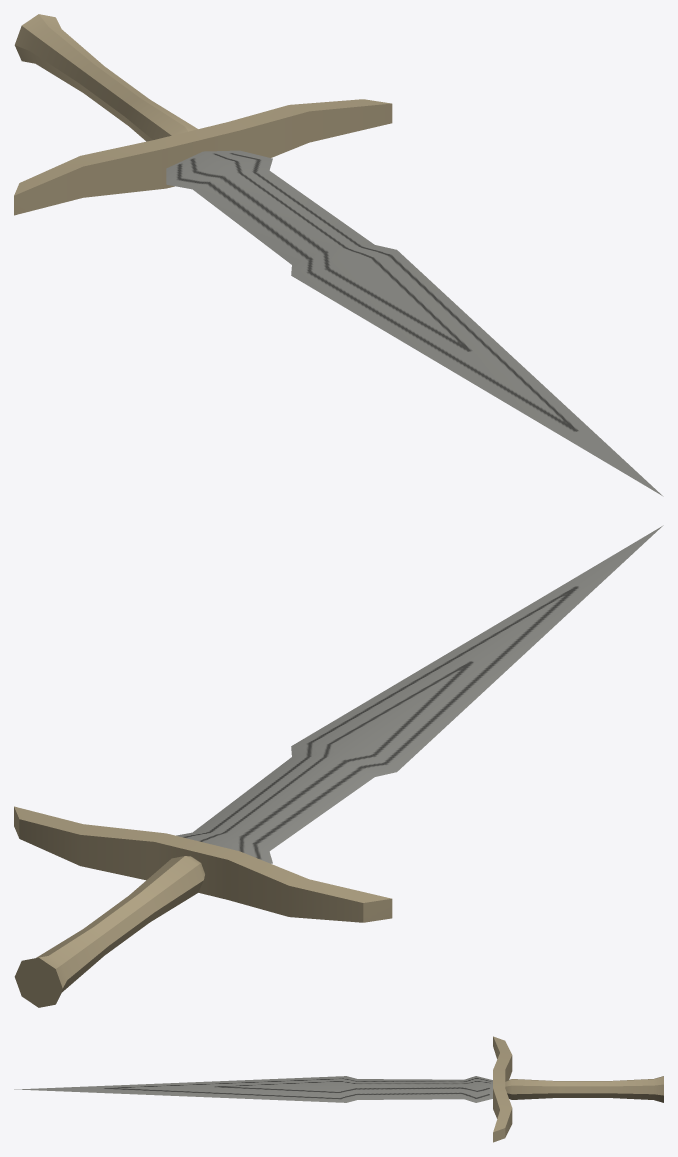
File: Knife.fbx
3 renders of one model, top to bottom at view 1: azimuth 30°, elevation 25°; view 2: azimuth 150°, elevation 25°; view 3: azimuth 270°, elevation 25°, orthographic. The views are drawn at different scales.
Visible parts, largest first — view 1: Knife; view 2: Knife; view 3: Knife.
Boxes of the visible parts, x1=… form: Knife: x1=14, y1=14, x2=663, y2=496; Knife: x1=14, y1=525, x2=663, y2=1007; Knife: x1=14, y1=1036, x2=663, y2=1142.
Size of the model in its own units: 0.2438 by 0.031 by 0.6982.
